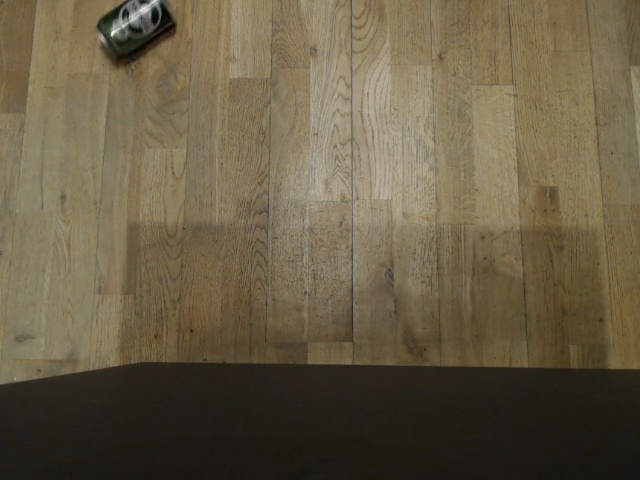beer: (88, 0, 179, 66)
